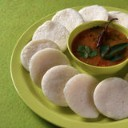idly: (66, 74, 103, 120), (43, 65, 80, 109), (30, 49, 70, 87), (95, 76, 128, 118), (22, 41, 61, 69), (34, 22, 69, 50), (56, 9, 83, 32), (80, 5, 109, 22)
